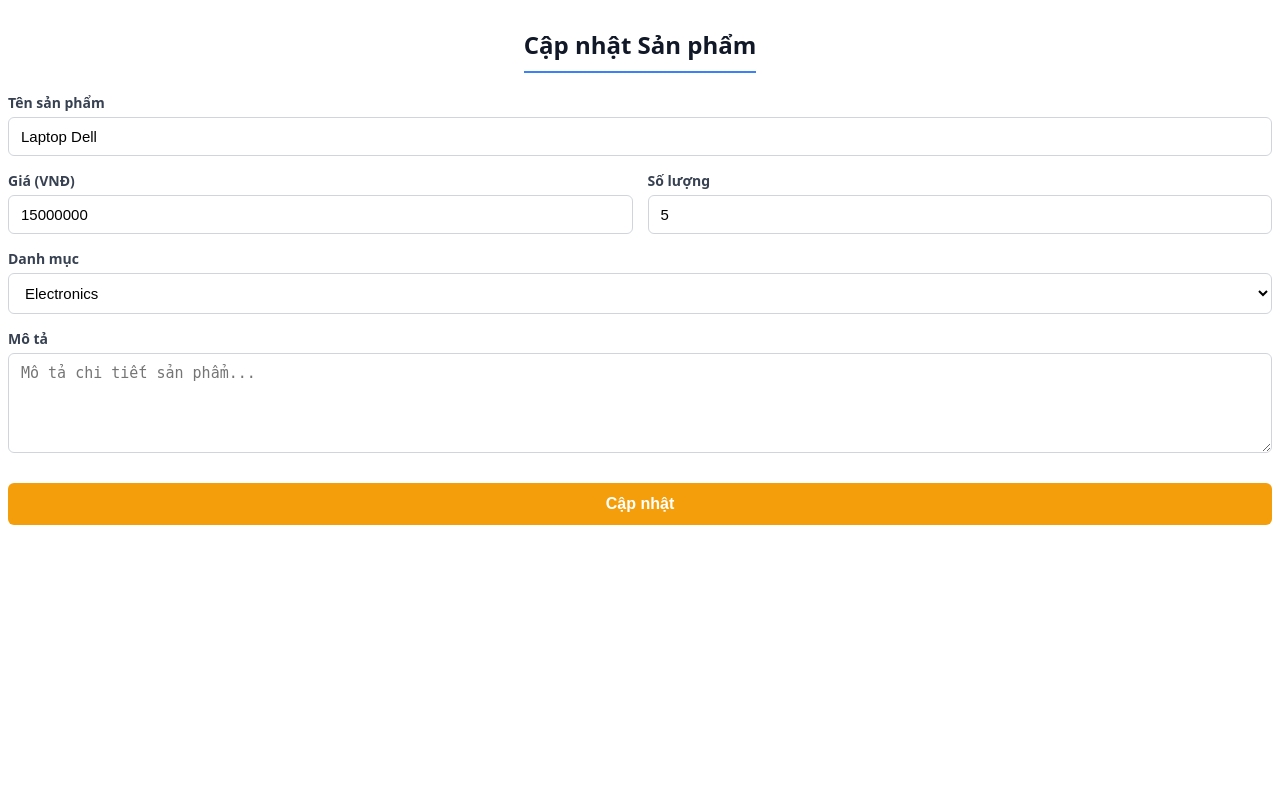
Scenario: Product Management Mock Tests (Full CRUD) › UPDATE: Cập nhật thất bại
Check: the field with test id "product-name-input" is shown, box [8,117,1272,156]
Click the button with test id "submit-btn" at (640,504), box [8,483,1272,525]
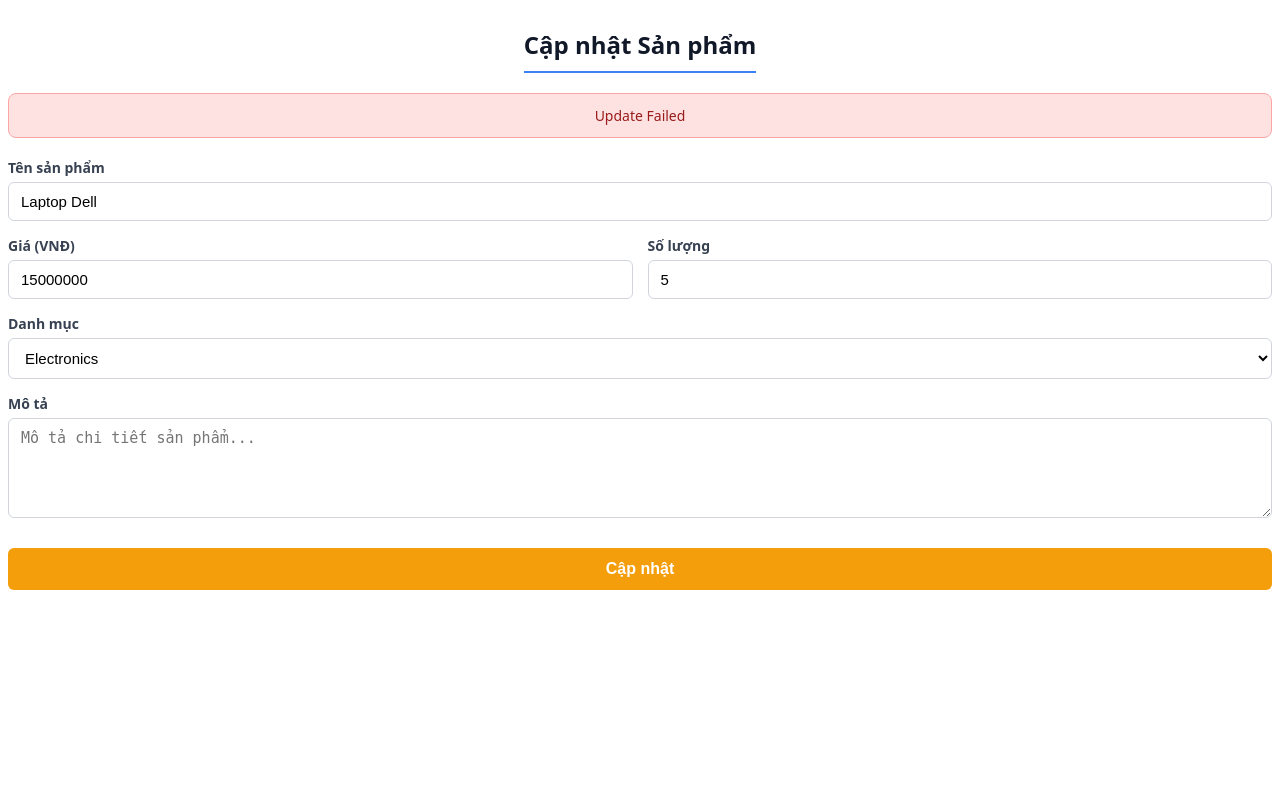
Check: the text "Update Failed" is shown, box [8,93,1272,138]
